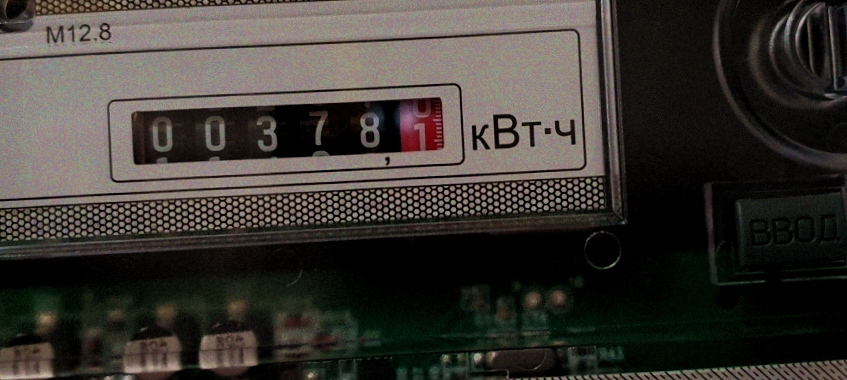0: (149, 113, 176, 153), (202, 113, 227, 152), (410, 97, 432, 119)
1: (410, 119, 429, 151)
3: (253, 113, 279, 153)
7: (305, 108, 329, 147)
8: (357, 109, 381, 149)
screen: (110, 79, 463, 175)
